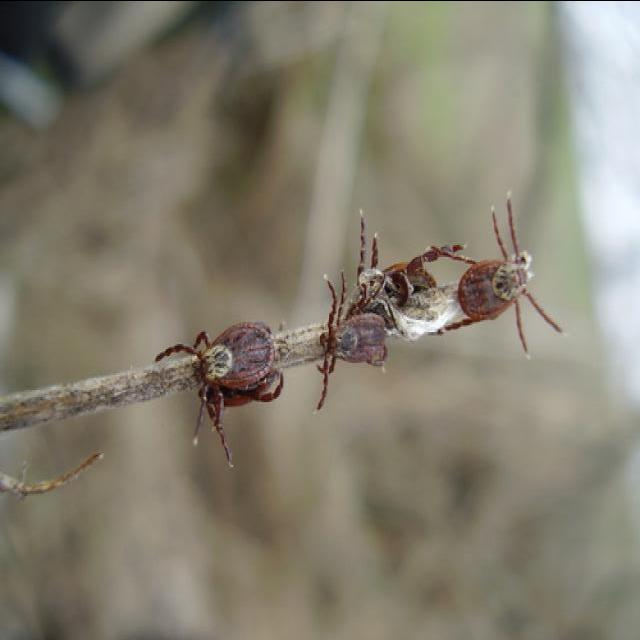Dermacentor Reticulatus-F: (421, 188, 564, 357), (154, 321, 284, 464)
